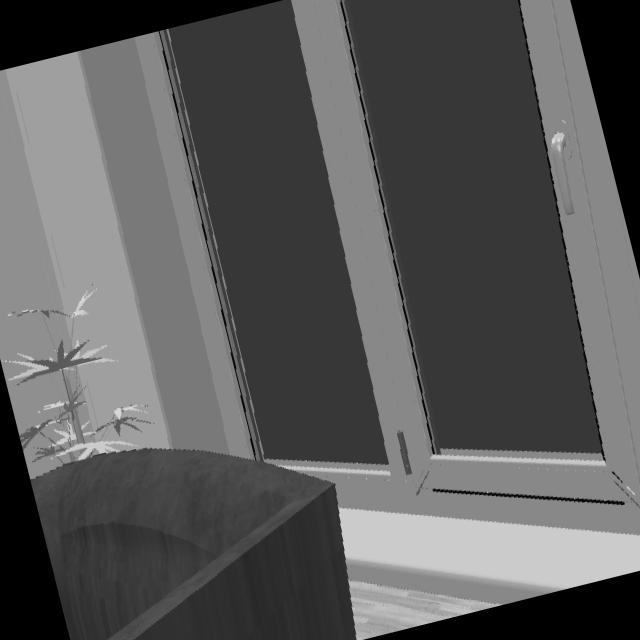sofa: (30, 448, 359, 640)
